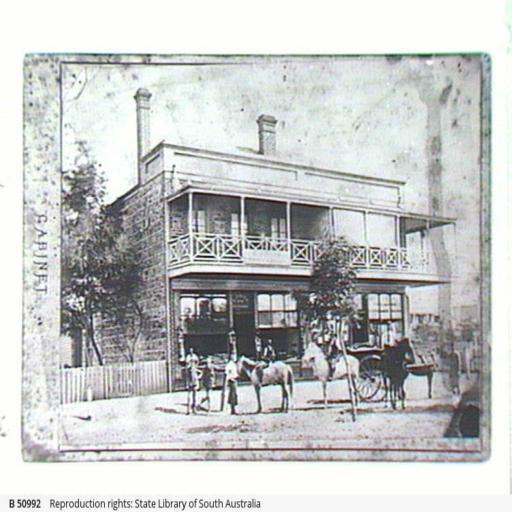horse: (298, 342, 362, 406), (234, 351, 294, 413)
